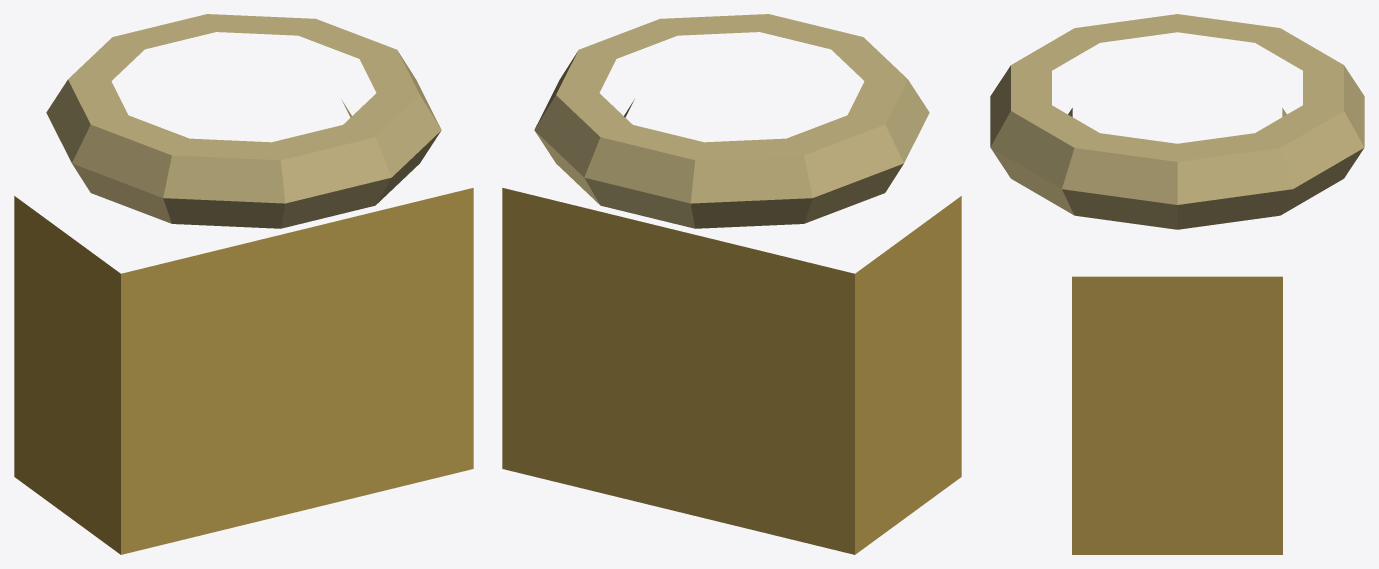
The model's file is lock.glb.
The picture shows the model from 3 angles, left to right: view 1: azimuth 30°, elevation 25°; view 2: azimuth 150°, elevation 25°; view 3: azimuth 270°, elevation 25°; orthographic projection.
Parts seen in each view (by area): view 1: lock; view 2: lock; view 3: lock.
Boxes of the visible parts, left/top/right/bottom form: lock: left=14, top=14, right=473, bottom=554; lock: left=502, top=14, right=961, bottom=554; lock: left=990, top=14, right=1364, bottom=554.
Size of the model in its own units: 0.42 by 0.439 by 0.3899.
